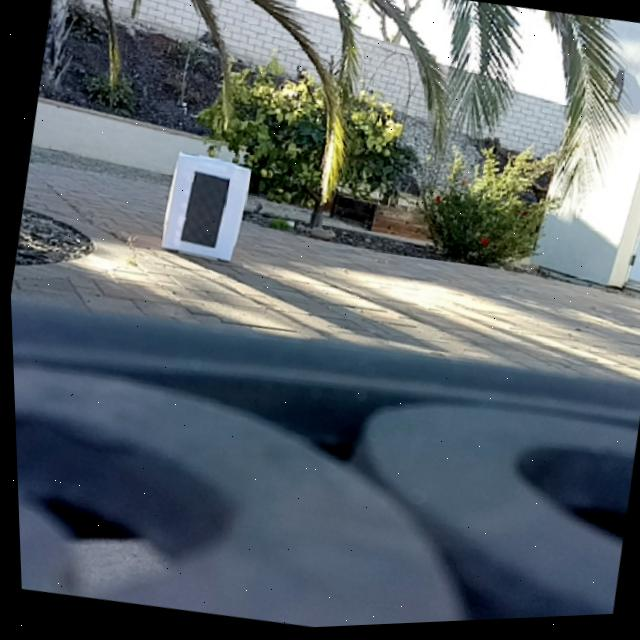led: (177, 171, 229, 251)
